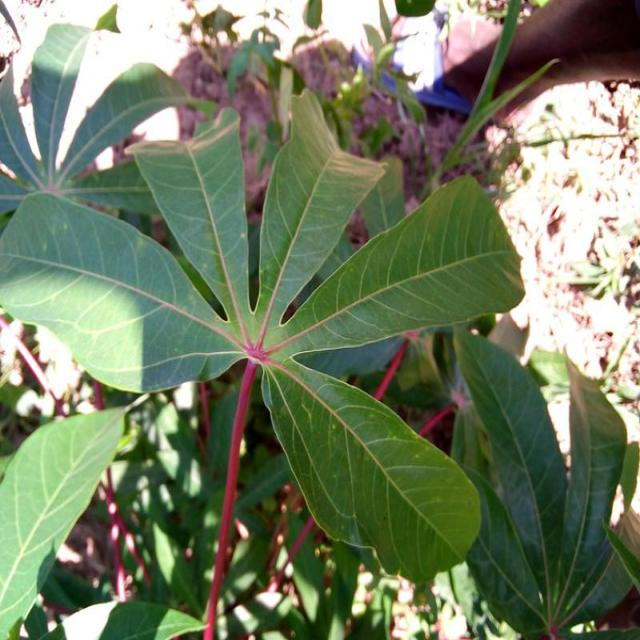cassava leaf: (260, 173, 526, 367), (261, 354, 482, 584), (2, 190, 247, 393), (255, 86, 388, 326), (1, 403, 127, 637), (126, 104, 252, 326)
